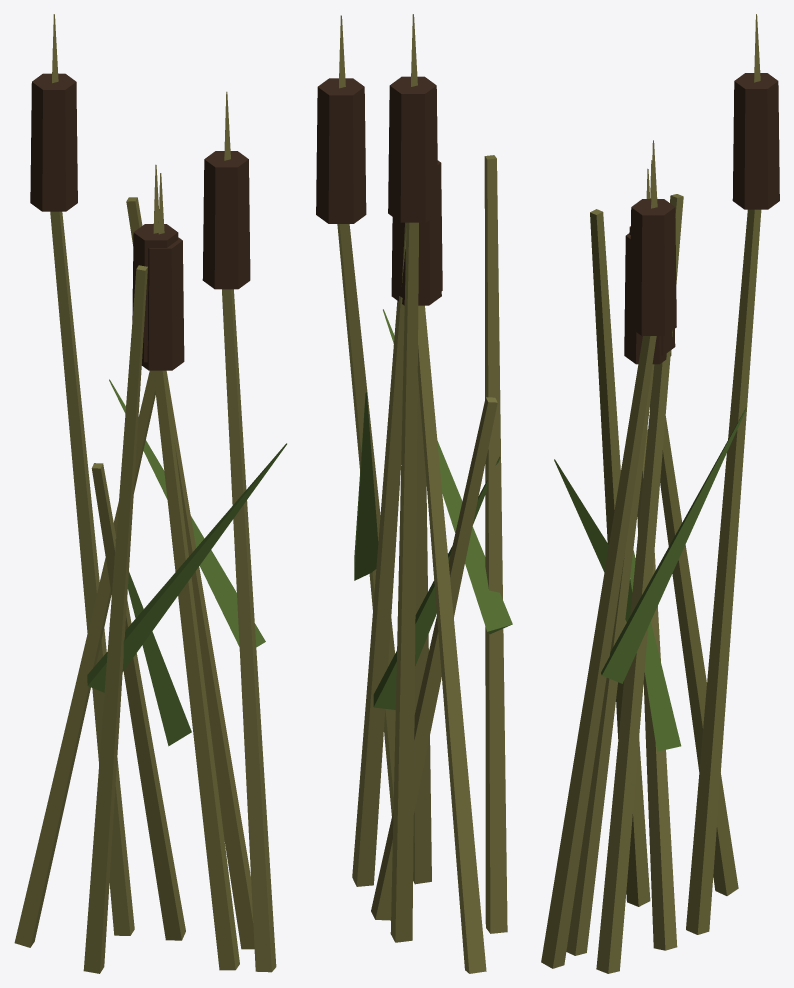
The model's file is reeds.glb.
The picture shows the model from 3 angles, left to right: view 1: azimuth 30°, elevation 25°; view 2: azimuth 150°, elevation 25°; view 3: azimuth 270°, elevation 25°; orthographic projection. The views are drawn at different scales.
Visible parts, largest first — view 1: Reeds; view 2: Reeds; view 3: Reeds.
Boxes of the visible parts, x1=… form: Reeds: x1=14, y1=14, x2=286, y2=973; Reeds: x1=316, y1=14, x2=512, y2=973; Reeds: x1=541, y1=14, x2=779, y2=973.
Size of the model in its own units: 0.2992 by 1.35 by 0.3244.
